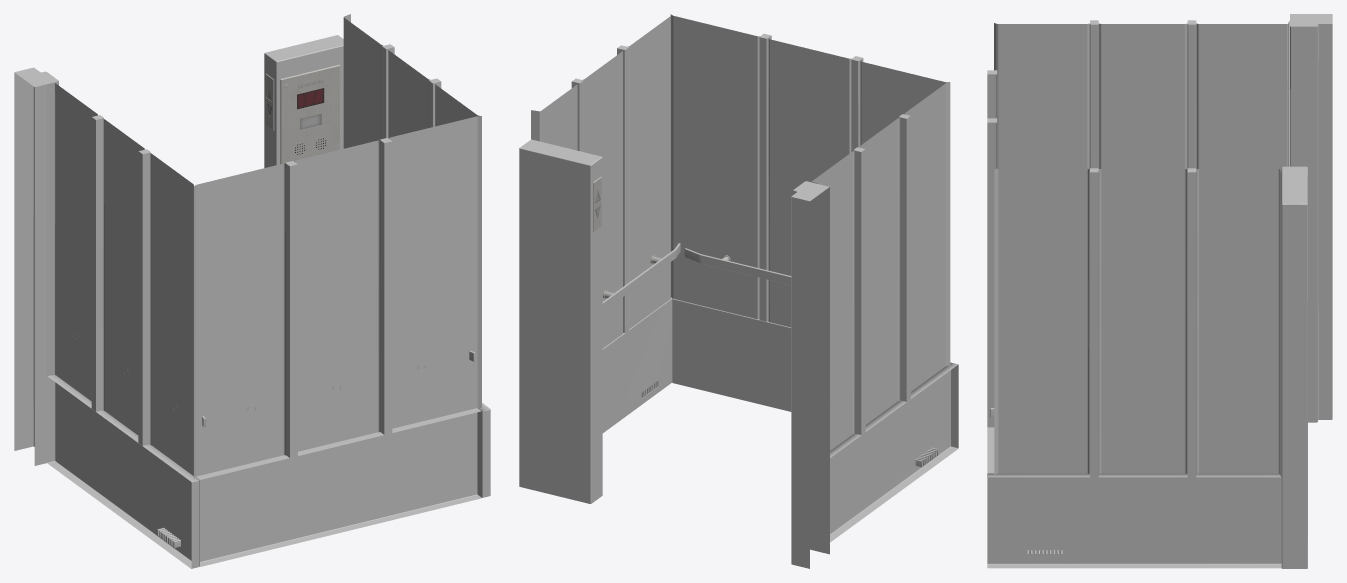
The model's file is SM_Elevator_Walls_02.fbx.
3 renders of one model, left to right at view 1: azimuth 30°, elevation 25°; view 2: azimuth 150°, elevation 25°; view 3: azimuth 270°, elevation 25°, orthographic. The views are drawn at different scales.
Parts seen in each view (by area): view 1: SM_Elevator_Walls_02; view 2: SM_Elevator_Walls_02; view 3: SM_Elevator_Walls_02.
Part boxes in pixels (x1,y1,x2,y2): SM_Elevator_Walls_02: [14, 14, 490, 568]; SM_Elevator_Walls_02: [519, 14, 958, 568]; SM_Elevator_Walls_02: [987, 14, 1332, 568].
Size of the model in its own units: 187 by 172 by 217.
